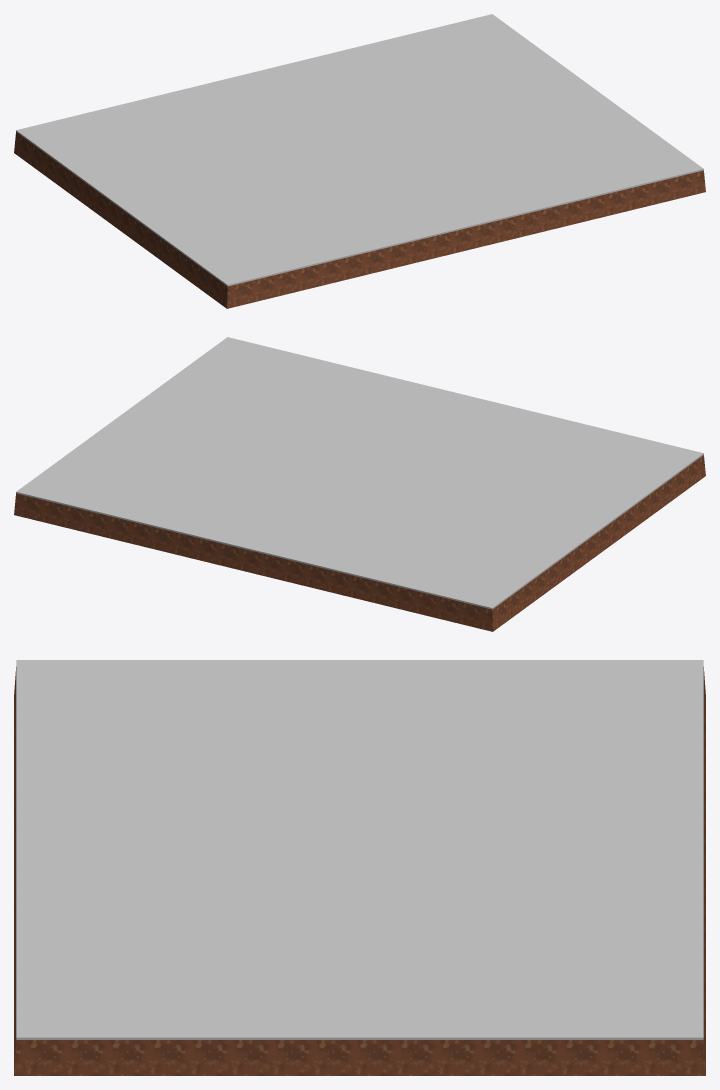
File: SM_Art_Authored_ArmadaSeaScreen_6500x5000x300_1_3.gltf
3 renders of one model, top to bottom at view 1: azimuth 30°, elevation 25°; view 2: azimuth 150°, elevation 25°; view 3: azimuth 270°, elevation 25°, orthographic. The views are drawn at different scales.
Parts seen in each view (by area): view 1: SM_Art_Authored_ArmadaSeaScreen_6500x5000x300_1_3; view 2: SM_Art_Authored_ArmadaSeaScreen_6500x5000x300_1_3; view 3: SM_Art_Authored_ArmadaSeaScreen_6500x5000x300_1_3.
Part boxes in pixels (bbox=[...]): SM_Art_Authored_ArmadaSeaScreen_6500x5000x300_1_3: bbox=[14, 14, 705, 308]; SM_Art_Authored_ArmadaSeaScreen_6500x5000x300_1_3: bbox=[14, 337, 705, 631]; SM_Art_Authored_ArmadaSeaScreen_6500x5000x300_1_3: bbox=[14, 660, 705, 1075].
Bounding box in the file's own units: 65.36 × 3 × 50.36.
